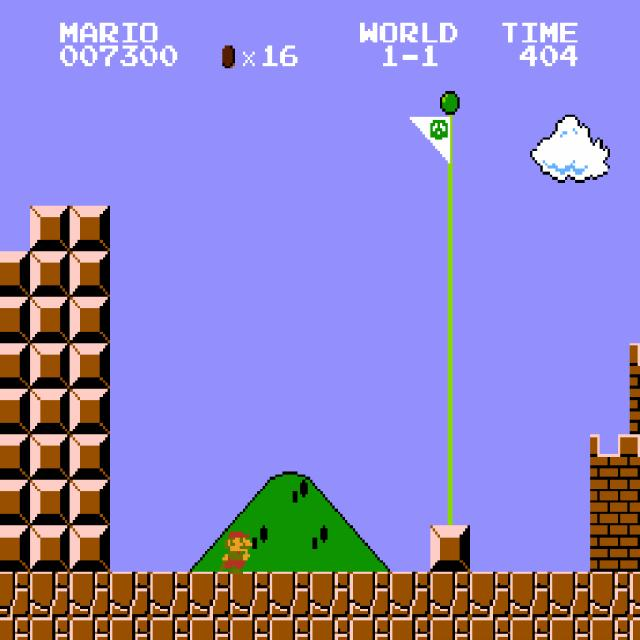goal_pole: (430, 114, 470, 160), (430, 160, 470, 206), (430, 297, 470, 343), (430, 434, 470, 480), (430, 480, 470, 526), (430, 69, 470, 114), (430, 206, 470, 251), (430, 252, 470, 297), (430, 343, 470, 388), (430, 389, 470, 434)
hard_block: (30, 297, 70, 343), (30, 434, 70, 480), (30, 480, 70, 526), (70, 297, 110, 343), (70, 434, 110, 480), (70, 480, 110, 526), (30, 206, 70, 251), (30, 252, 70, 297), (30, 343, 70, 388), (30, 389, 70, 434), (30, 526, 70, 571), (70, 206, 110, 251), (70, 252, 110, 297), (70, 343, 110, 388), (70, 389, 110, 434), (70, 526, 110, 571), (430, 526, 470, 571), (0, 297, 30, 343), (0, 434, 30, 480), (0, 480, 30, 526), (0, 252, 30, 297), (0, 343, 30, 388), (0, 389, 30, 434), (0, 526, 30, 571)
little_mario: (213, 526, 255, 574)
undestructible_block: (30, 572, 70, 617), (70, 572, 110, 617), (110, 572, 150, 617), (150, 572, 190, 617), (190, 572, 230, 617), (230, 572, 270, 617), (270, 572, 310, 617), (310, 572, 350, 617), (350, 572, 390, 617), (390, 572, 430, 617), (430, 572, 470, 617), (470, 572, 510, 617), (510, 572, 550, 617), (550, 572, 590, 617), (590, 572, 630, 617), (0, 572, 30, 617), (30, 617, 70, 640), (70, 617, 110, 640), (110, 617, 150, 640), (150, 617, 190, 640), (190, 617, 230, 640), (230, 617, 270, 640), (270, 617, 310, 640), (310, 617, 350, 640), (350, 617, 390, 640), (390, 617, 430, 640), (430, 617, 470, 640), (470, 617, 510, 640), (510, 617, 550, 640), (550, 617, 590, 640), (590, 617, 630, 640), (0, 617, 30, 640), (629, 571, 640, 617), (629, 617, 640, 639)
